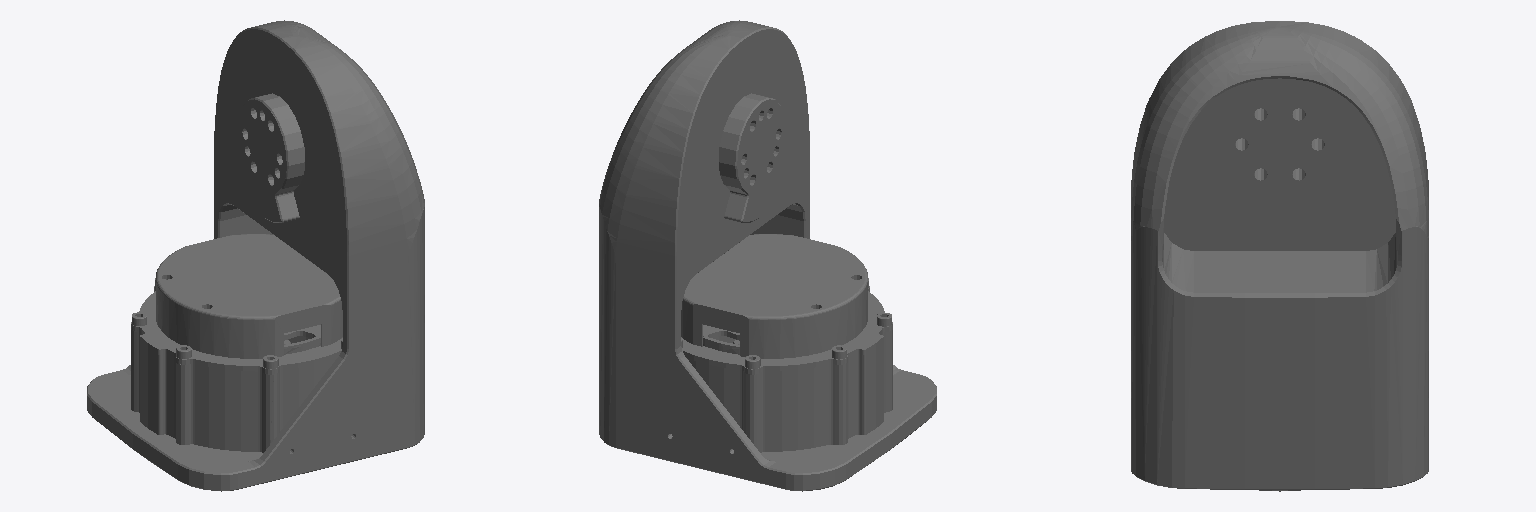
robot.urdf — Y1_1:
<?xml version="1.0"?>
<robot name="Y1_1">

  <link name="l_hip_roll_Link">
    <visual>
      <origin xyz="0.0000 0.0000 0.0000" rpy="0.0000 0.0000 0.0000" />
      <geometry>
        <mesh filename="../meshes/l_hip_roll_Link.STL" />
      </geometry>
      <material name="l_hip_roll_Link_mat">
        <color rgba="0.5 0.5 0.5 1.0"/>
      </material>
    </visual>
    <collision>
      <origin xyz="0.0000 0.0000 -0.0800" rpy="0.0000 0.0000 0.0000" />
      <geometry>
        <cylinder radius="0.0500" length="0.0400" />
      </geometry>
    </collision>
    <inertial>
      <origin xyz="0.0113 0.0000 -0.0557" rpy="0.0000 0.0000 0.0000" />
      <mass value="0.74464439636084" />
      <inertia ixx="0.0017" ixy="0.0000" ixz="0.0001" iyy="0.0014" iyz="0.0000" izz="0.0010" />
    </inertial>
  </link>

  <link name="l_hip_yaw_Link">
    <visual>
      <origin xyz="0.0000 0.0000 0.0000" rpy="0.0000 0.0000 0.0000" />
      <geometry>
        <mesh filename="../meshes/l_hip_yaw_Link.STL" />
      </geometry>
      <material name="l_hip_yaw_Link_mat">
        <color rgba="0.5 0.5 0.5 1.0"/>
      </material>
    </visual>
    <collision>
      <origin xyz="0.0000 0.0000 -0.0400" rpy="0.0000 0.0000 0.0000" />
      <geometry>
        <cylinder radius="0.0400" length="0.0600" />
      </geometry>
    </collision>
    <inertial>
      <origin xyz="-0.0101 -0.0009 -0.0835" rpy="0.0000 0.0000 0.0000" />
      <mass value="1.0973721550832" />
      <inertia ixx="0.0023" ixy="0.0000" ixz="0.0002" iyy="0.0031" iyz="-0.0001" izz="0.0013" />
    </inertial>
  </link>

  <joint name="l_hip_yaw_joint" type="revolute">
    <parent link="l_hip_roll_Link" />
    <child link="l_hip_yaw_Link" />
    <origin xyz="-0.0027 0.0000 -0.0995" rpy="0.0000 0.0000 0.0000" />
    <axis xyz="0.0000 0.0000 1.0000" />
    <limit lower="-2.792526803190927" upper="2.792526803190927" effort="36.0" velocity="10.5" />
    <hardware>
      <motorType>None</motorType>
      <motorDirection>1</motorDirection>
      <armature>0</armature>
    </hardware>
  </joint>




</robot>

--- What the picture shows (computed from the rendered views, not written in the file) ---
3 views of the same robot in one strip: view 1: azimuth 30°, elevation 25°; view 2: azimuth 150°, elevation 25°; view 3: azimuth 270°, elevation 25° (orthographic).
Model Y1_1 with 2 links and 1 joints (1 revolute), rooted at l_hip_roll_Link, posed all joints at 0.
Links seen in each view (by area): view 1: l_hip_roll_Link; view 2: l_hip_roll_Link; view 3: l_hip_roll_Link.
Boxes of the visible links, x1,y1,x2,y2 form: l_hip_roll_Link: (87, 20, 424, 491); l_hip_roll_Link: (599, 20, 936, 491); l_hip_roll_Link: (1131, 21, 1428, 491).
Bounding box of the posed robot: 0.0992 × 0.094 × 0.149 m (x, y, z).
1 mesh visuals loaded from 2 distinct referenced files (1 binary STL); not drawn: 1 (reference not matched to a file when rendering).
